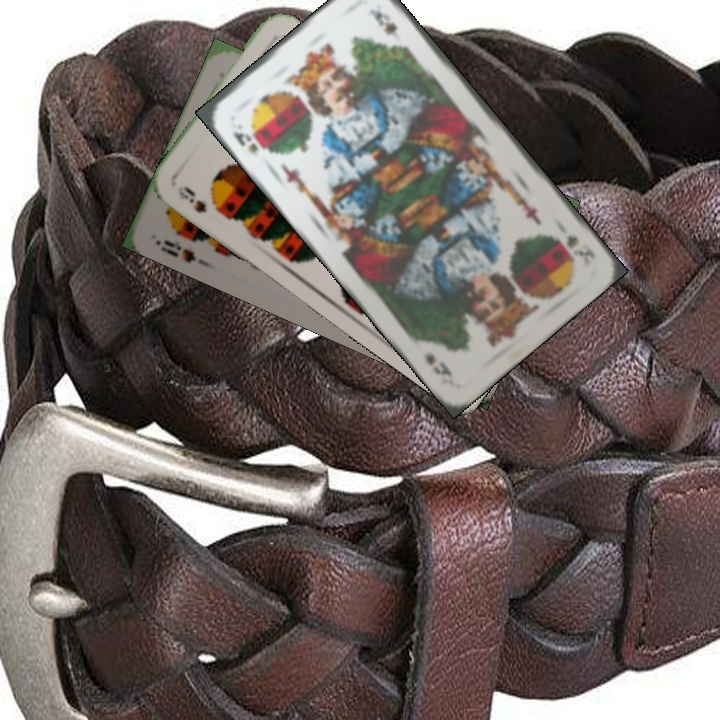S8: (159, 235, 198, 265)
S9: (174, 181, 226, 218)
SK: (562, 231, 599, 271), (229, 128, 261, 157)
